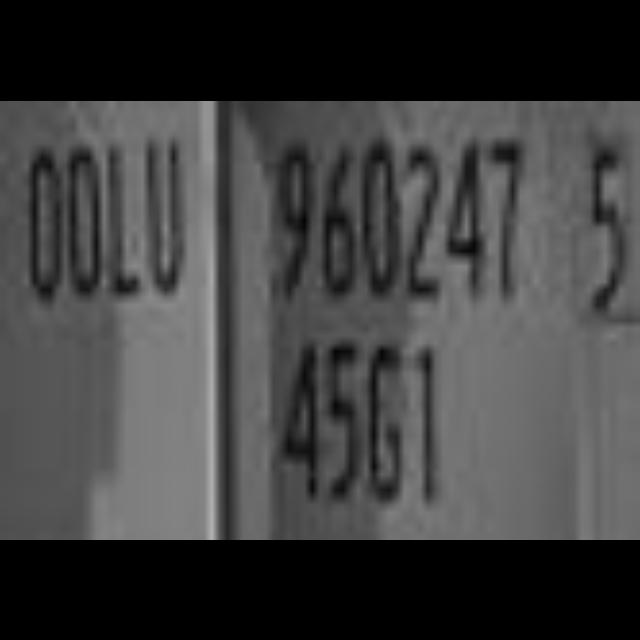0: (360, 129, 402, 309)
1: (409, 334, 447, 516)
2: (404, 128, 448, 310)
4: (276, 326, 330, 507), (446, 133, 486, 307)
5: (578, 130, 640, 316), (325, 334, 365, 510)
6: (322, 133, 358, 304)
7: (485, 124, 535, 316)
9: (266, 130, 318, 300)
g: (364, 337, 408, 511)
l: (103, 136, 143, 304)
o: (20, 144, 68, 308), (66, 137, 102, 300)
u: (140, 133, 190, 301)
